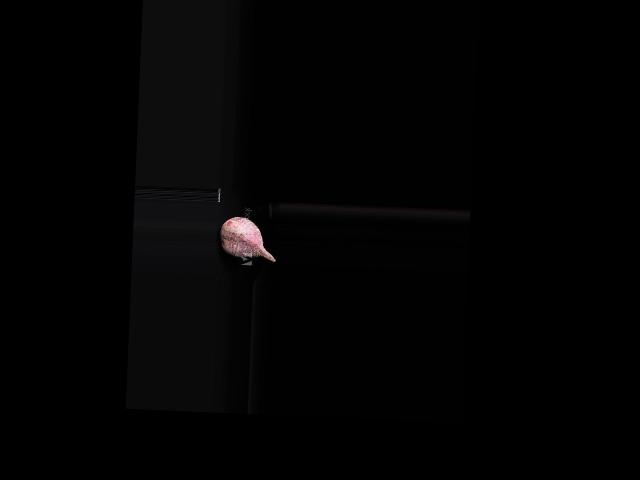beet: (219, 215, 277, 261)
